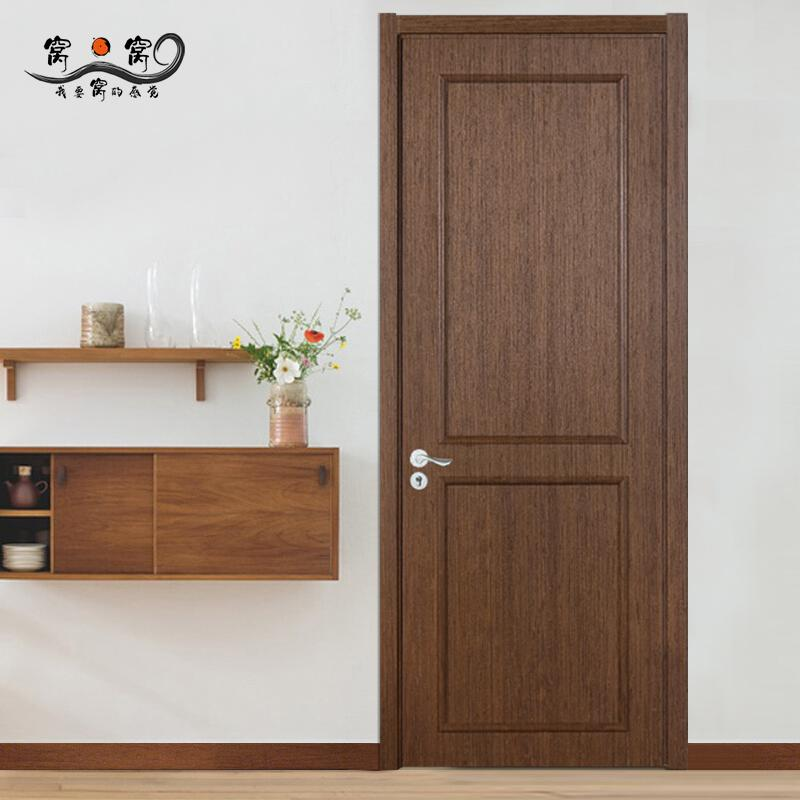door: (399, 31, 669, 762)
